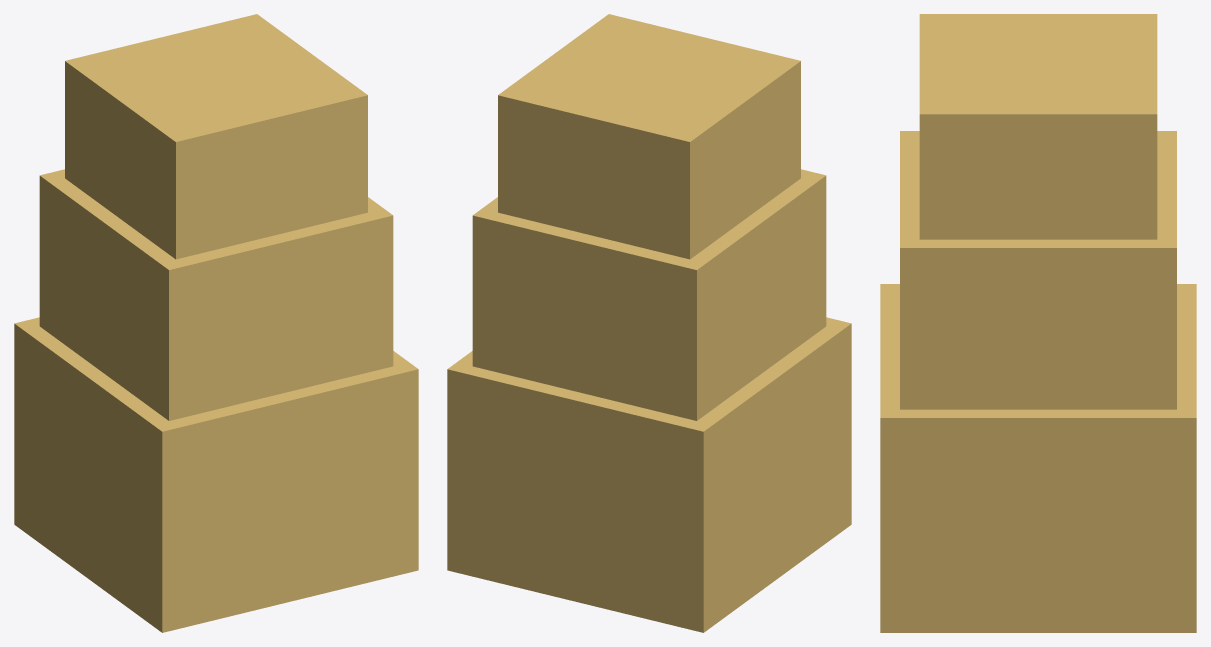
File: food.gltf
3 renders of one model, left to right at view 1: azimuth 30°, elevation 25°; view 2: azimuth 150°, elevation 25°; view 3: azimuth 270°, elevation 25°, orthographic. The views are drawn at different scales.
Size of the model in its own units: 8 by 14 by 8.
